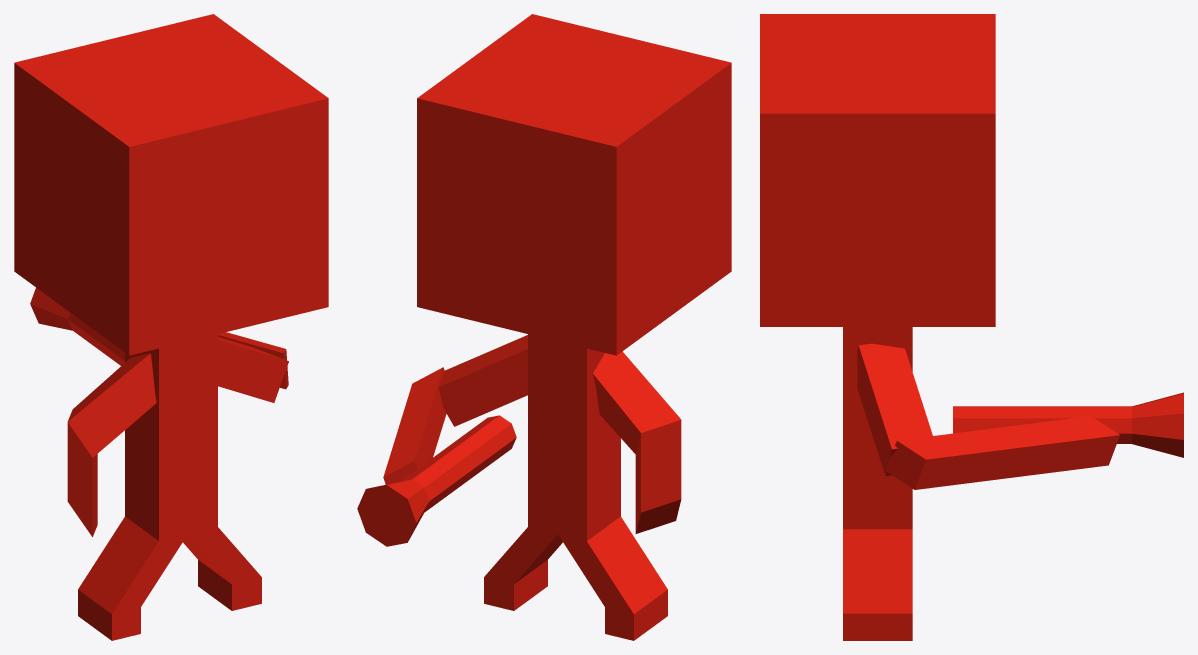
File: enemy.glb
3 renders of one model, left to right at view 1: azimuth 30°, elevation 25°; view 2: azimuth 150°, elevation 25°; view 3: azimuth 270°, elevation 25°, orthographic. The views are drawn at different scales.
Visible parts, largest first — view 1: Cube.001; view 2: Cube.001; view 3: Cube.001.
Boxes of the visible parts, bbox=[...] form: Cube.001: bbox=[14, 14, 328, 640]; Cube.001: bbox=[357, 14, 731, 640]; Cube.001: bbox=[760, 14, 1183, 640].
Bounding box in the file's own units: 0.5363 × 1.11 × 0.7895.
